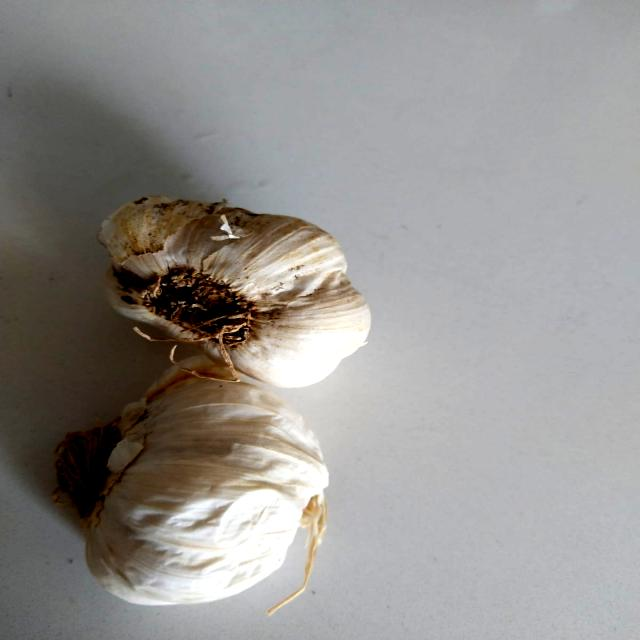garlic: (26, 362, 353, 614), (81, 186, 438, 376)
